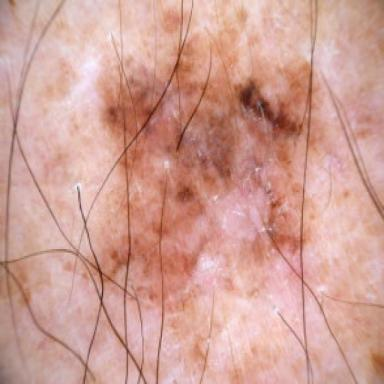Melanoma: (62, 6, 324, 334)
